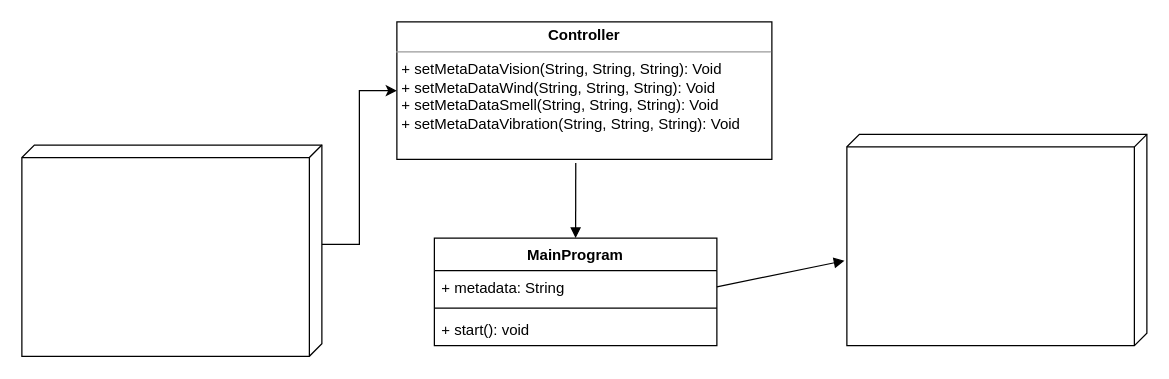
The diagram is 1169 pixels wide and 379 high, and some of its shapes have lost their labels. Each missing label, with the centre of its shape:
Mbook: point (171, 250)
PlaySEM_SERenderer: point (996, 239)
